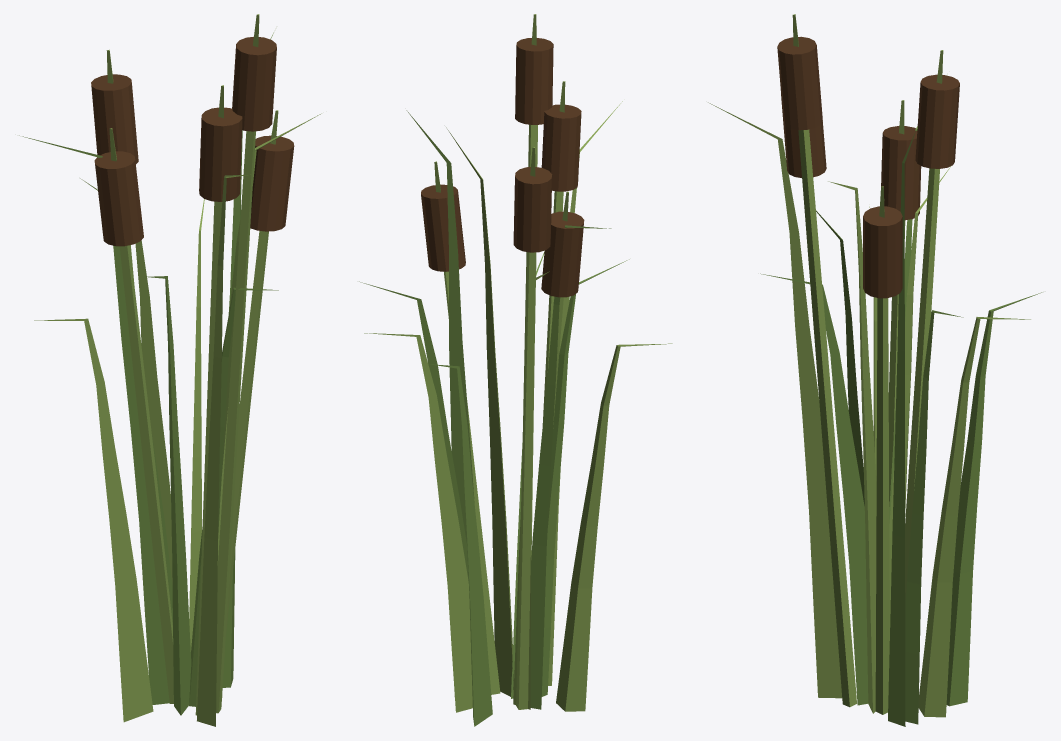
Rendered from reeds-a.glb.
3 renders of one model, left to right at view 1: azimuth 30°, elevation 25°; view 2: azimuth 150°, elevation 25°; view 3: azimuth 270°, elevation 25°, orthographic. The views are drawn at different scales.
Visible parts, largest first — view 1: Body_Leaves2, Body_SeedHeads, Body_Leaves; view 2: Body_Leaves2, Body_Leaves, Body_SeedHeads; view 3: Body_Leaves2, Body_Leaves, Body_SeedHeads.
Boxes of the visible parts, x1,y1,x2,y2 form: Body_Leaves2: (34,14,321,726); Body_SeedHeads: (91,36,294,246); Body_Leaves: (19,32,278,715); Body_Leaves2: (364,14,672,712); Body_Leaves: (359,110,629,726); Body_SeedHeads: (421,38,584,297); Body_Leaves2: (708,14,1030,717); Body_Leaves: (760,126,1042,726); Body_SeedHeads: (777,36,959,298).
Bounding box in the file's own units: 0.8 × 1.8 × 0.8.
